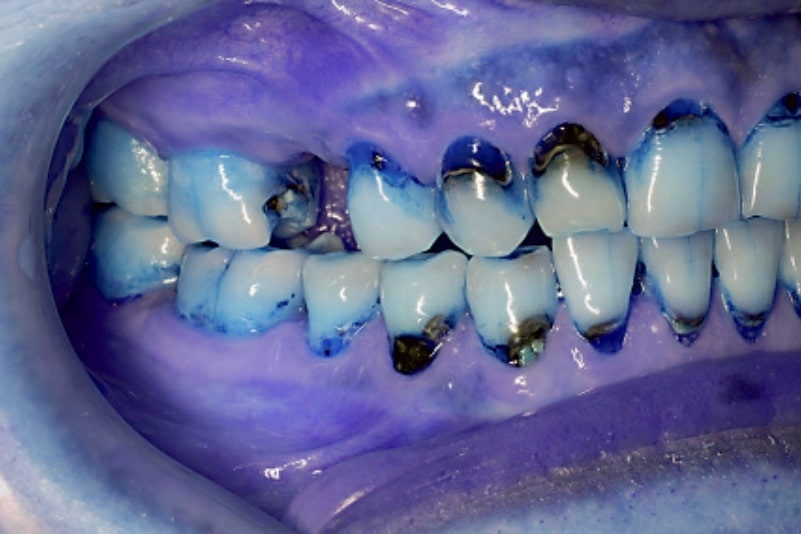karies: (527, 119, 611, 176), (438, 133, 506, 186), (256, 168, 318, 226), (318, 311, 376, 362), (494, 322, 554, 368), (651, 95, 717, 134), (388, 331, 442, 377), (100, 285, 150, 320), (728, 306, 774, 343), (587, 320, 630, 357), (660, 314, 707, 347), (760, 87, 801, 124), (266, 281, 307, 317), (627, 258, 661, 300), (364, 143, 395, 175), (704, 257, 727, 286)
